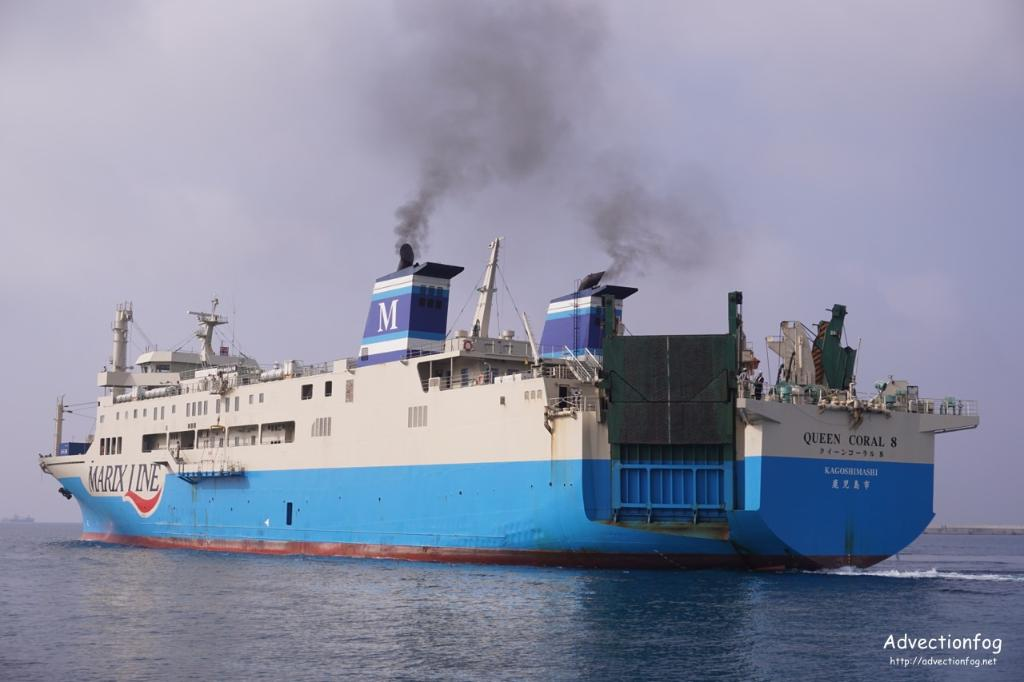PassengerShip: (22, 244, 984, 570)
